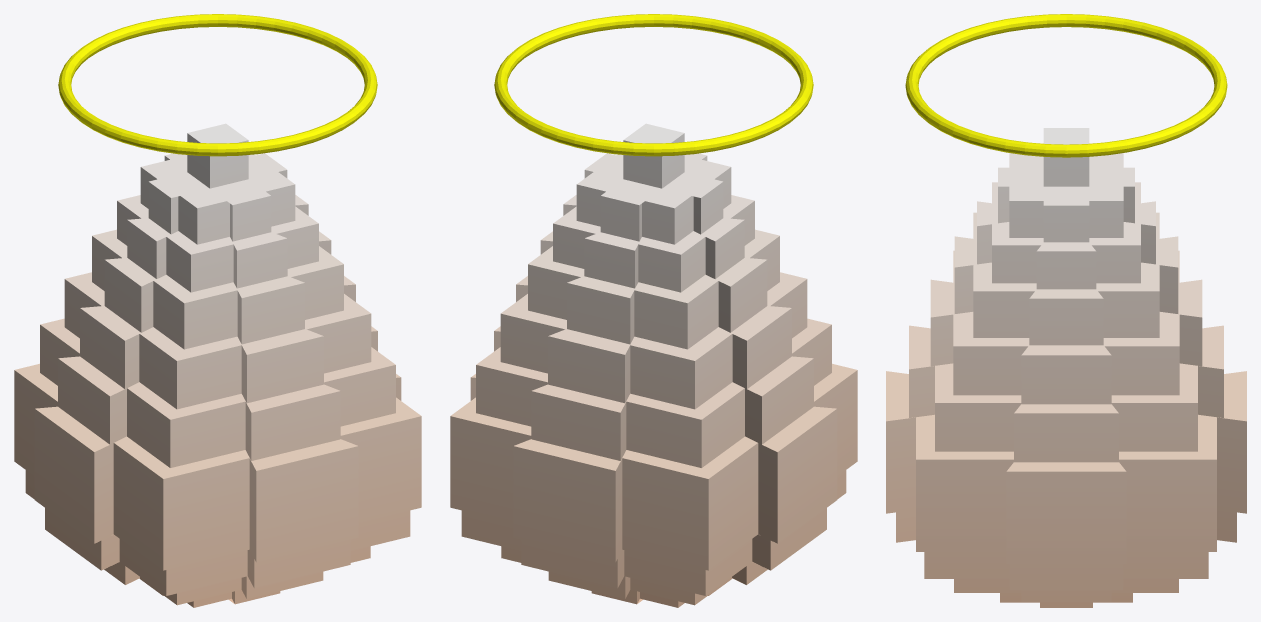
The model's file is angel egg.fbx.
The picture shows the model from 3 angles, left to right: view 1: azimuth 30°, elevation 25°; view 2: azimuth 150°, elevation 25°; view 3: azimuth 270°, elevation 25°; orthographic projection.
Parts seen in each view (by area): view 1: Plane.002_8; view 2: Plane.002_8; view 3: Plane.002_8.
Boxes of the visible parts, x1,y1,x2,y2 form: Plane.002_8: [14, 14, 421, 607]; Plane.002_8: [450, 14, 857, 607]; Plane.002_8: [886, 14, 1246, 607].
Size of the model in its own units: 183 by 280 by 185.
